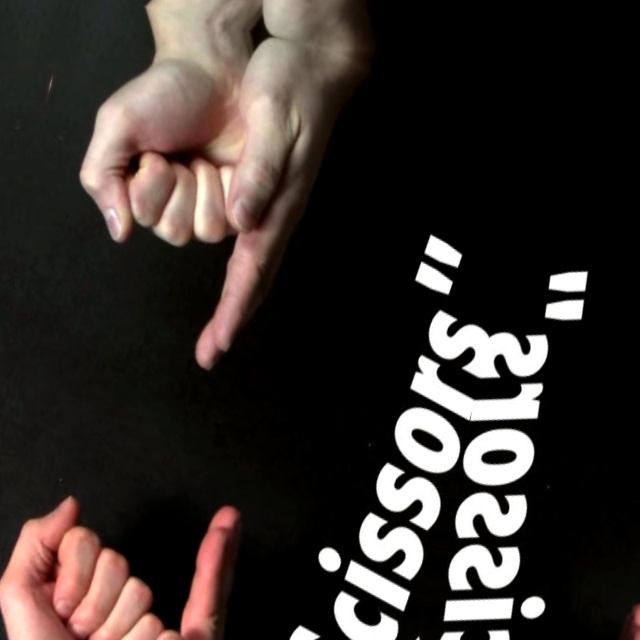Rock: (115, 0, 353, 41), (0, 0, 30, 233)
